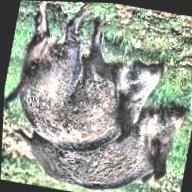boar: (1, 4, 179, 171)
